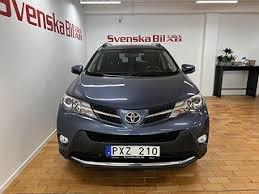license-plates: (106, 145, 161, 158)
